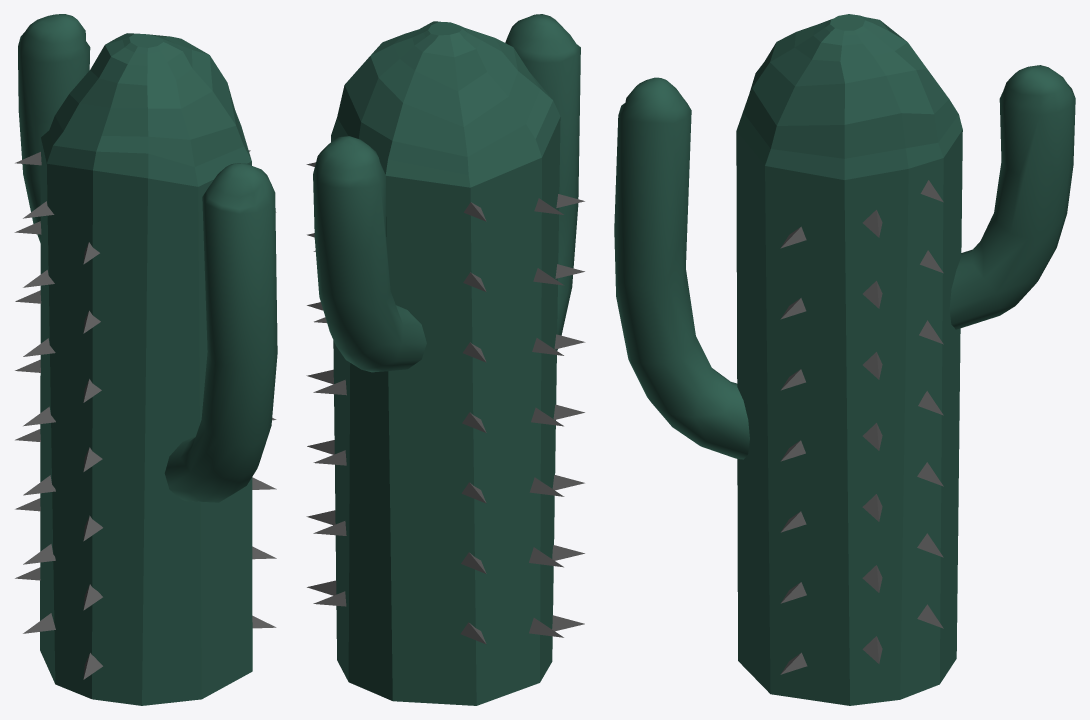
File: SpikeBombBarrierModel.fbx
3 renders of one model, left to right at view 1: azimuth 30°, elevation 25°; view 2: azimuth 150°, elevation 25°; view 3: azimuth 270°, elevation 25°, orthographic. The views are drawn at different scales.
Visible parts, largest first — view 1: Body, Spikes; view 2: Body, Spikes; view 3: Body, Spikes.
Part boxes in pixels (x1,y1,x2,y2): Body: (18, 14, 277, 705); Spikes: (14, 150, 276, 679); Body: (313, 14, 580, 705); Spikes: (306, 162, 585, 644); Body: (614, 14, 1075, 705); Spikes: (780, 180, 943, 674).
Bounding box in the file's own units: 199 × 489 × 320.
